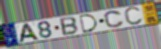8: (37, 20, 54, 39)
A: (17, 22, 42, 44)
B: (59, 16, 80, 37)
C: (124, 6, 145, 27), (103, 10, 125, 29)
D: (79, 13, 100, 34)
